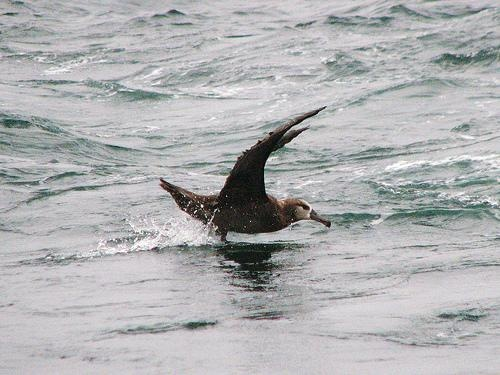bird: (162, 101, 342, 243)
